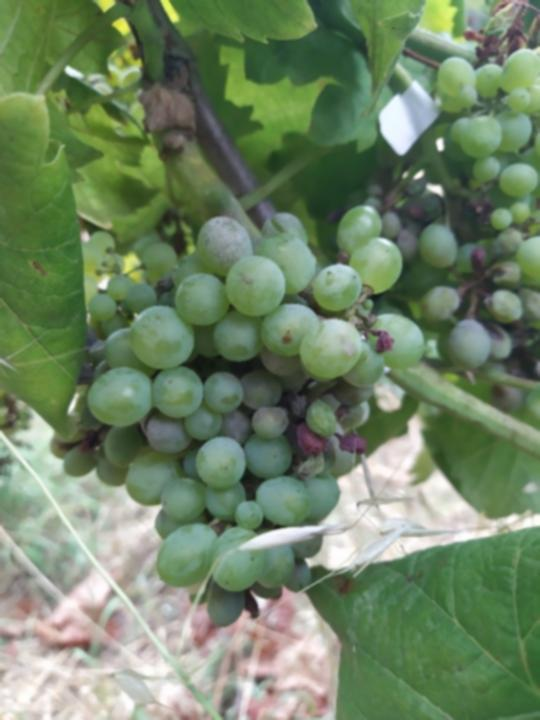grape: (83, 202, 429, 630)
